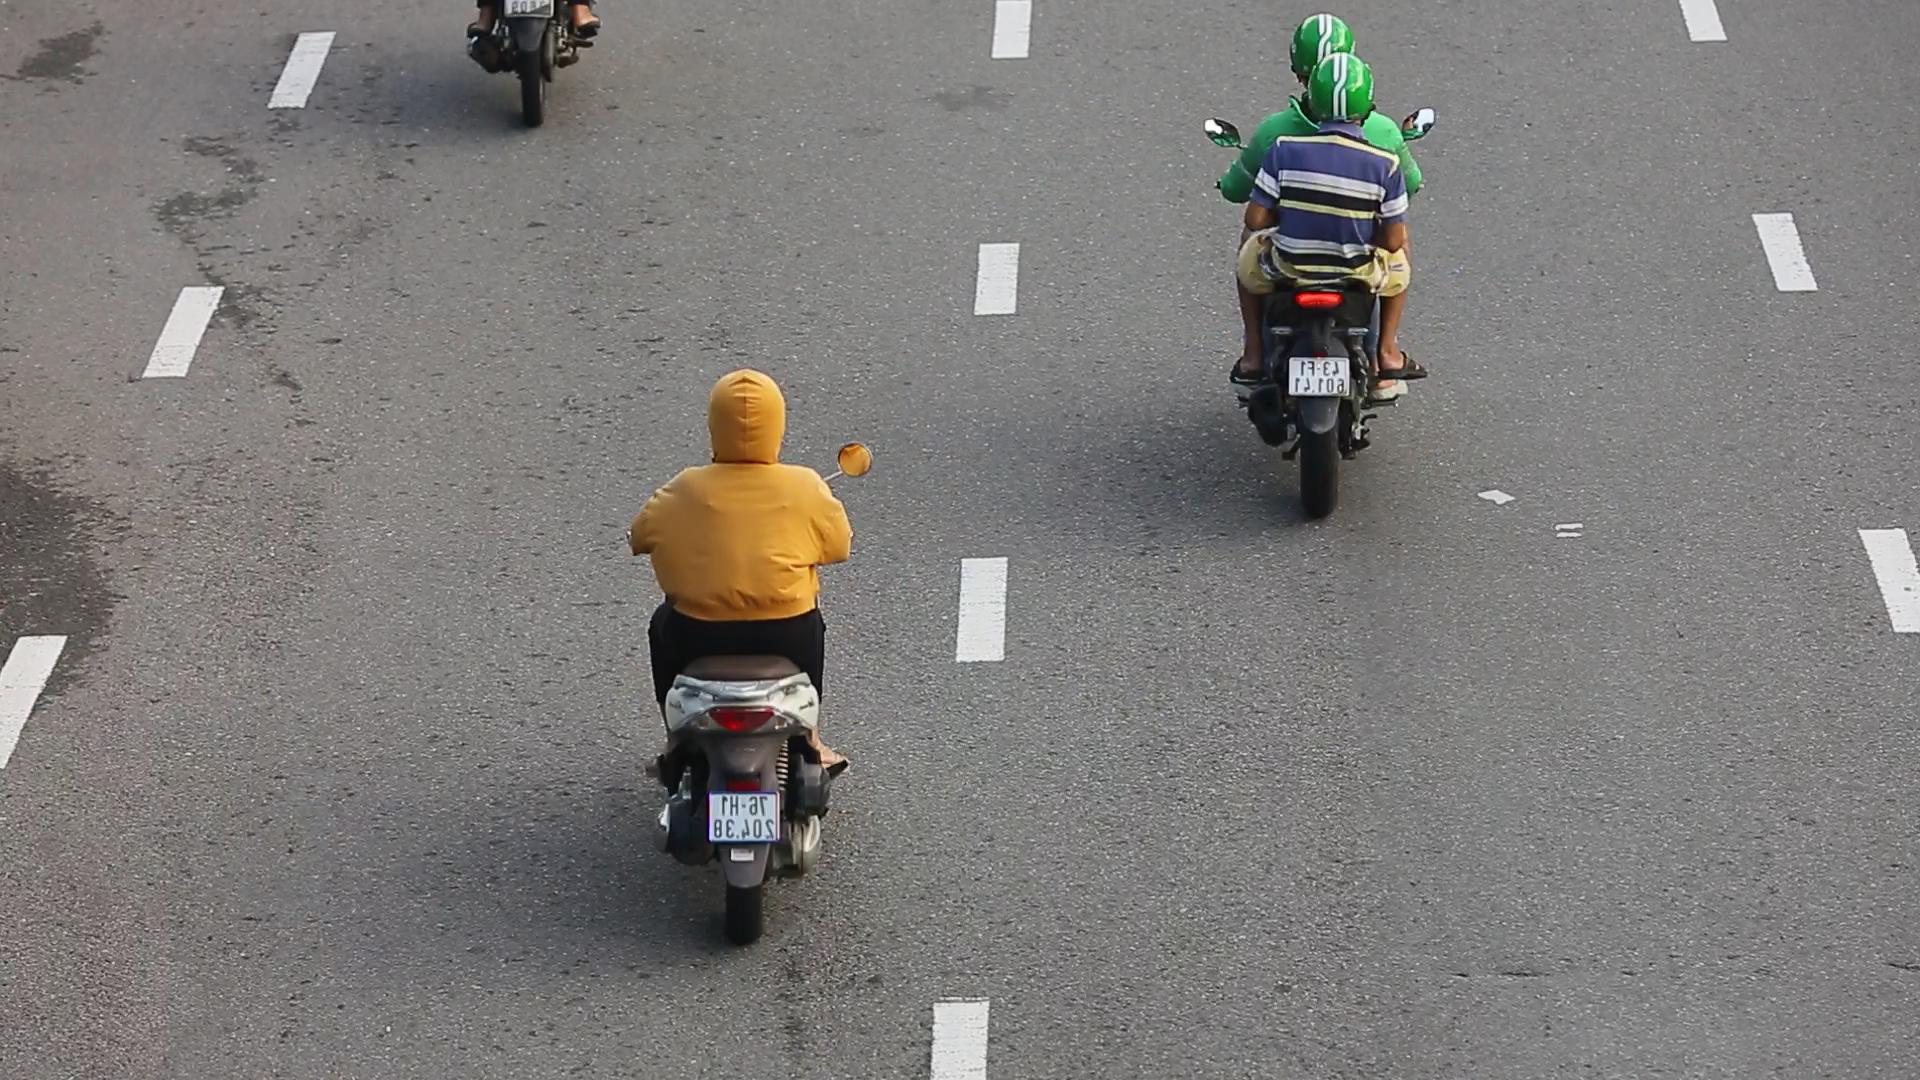motobike: (618, 351, 878, 949), (1201, 12, 1443, 541)
